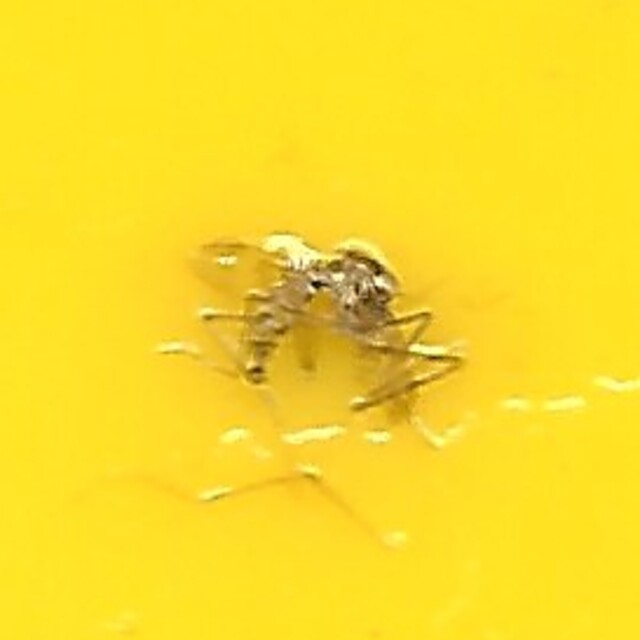Nematocera: (234, 242, 406, 398)
